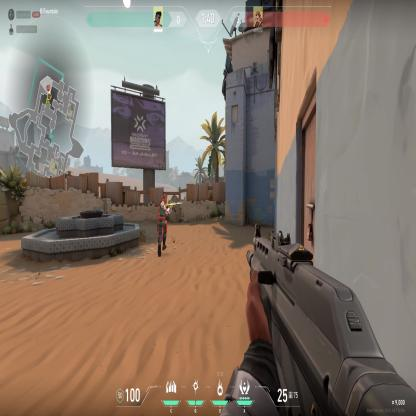enemy: (157, 193, 168, 258)
